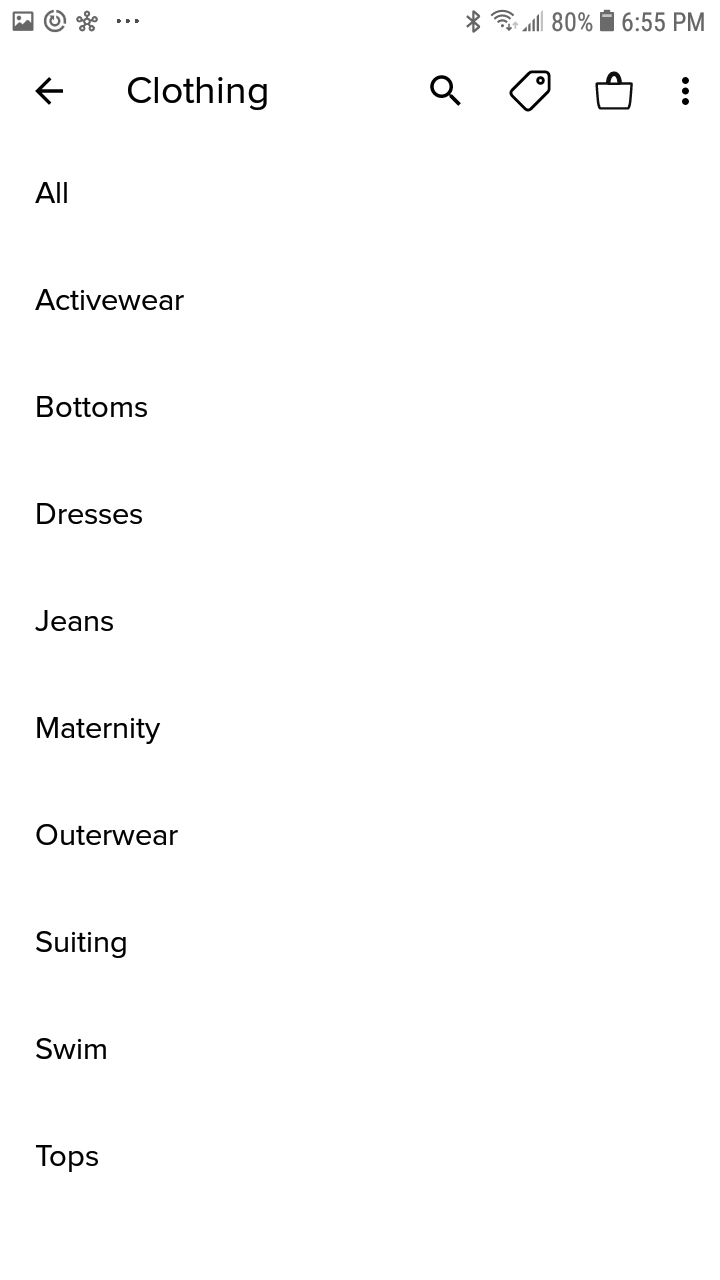Icon: (509, 70, 552, 113), (595, 72, 634, 111), (430, 75, 462, 107), (36, 78, 64, 106), (681, 77, 690, 107)
Text: (128, 77, 268, 111), (37, 717, 161, 745), (36, 289, 185, 311), (37, 824, 180, 846), (36, 931, 127, 959), (37, 396, 148, 418), (38, 503, 144, 525), (37, 1145, 100, 1173), (36, 610, 115, 632), (37, 1038, 107, 1060), (35, 182, 68, 204)
UpperTaskBar: (1, 1, 720, 34)
